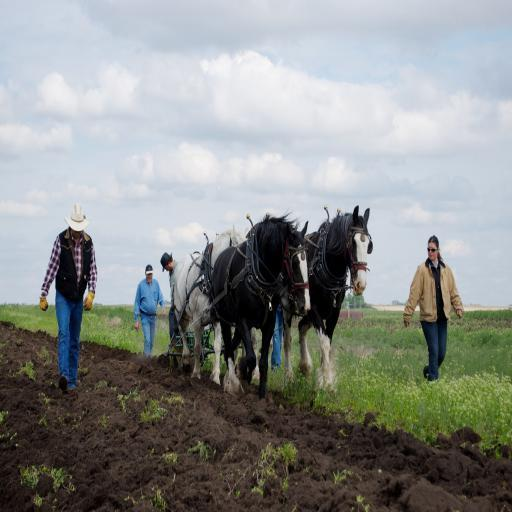horse: (210, 206, 312, 400), (281, 204, 371, 395), (173, 224, 249, 388)
